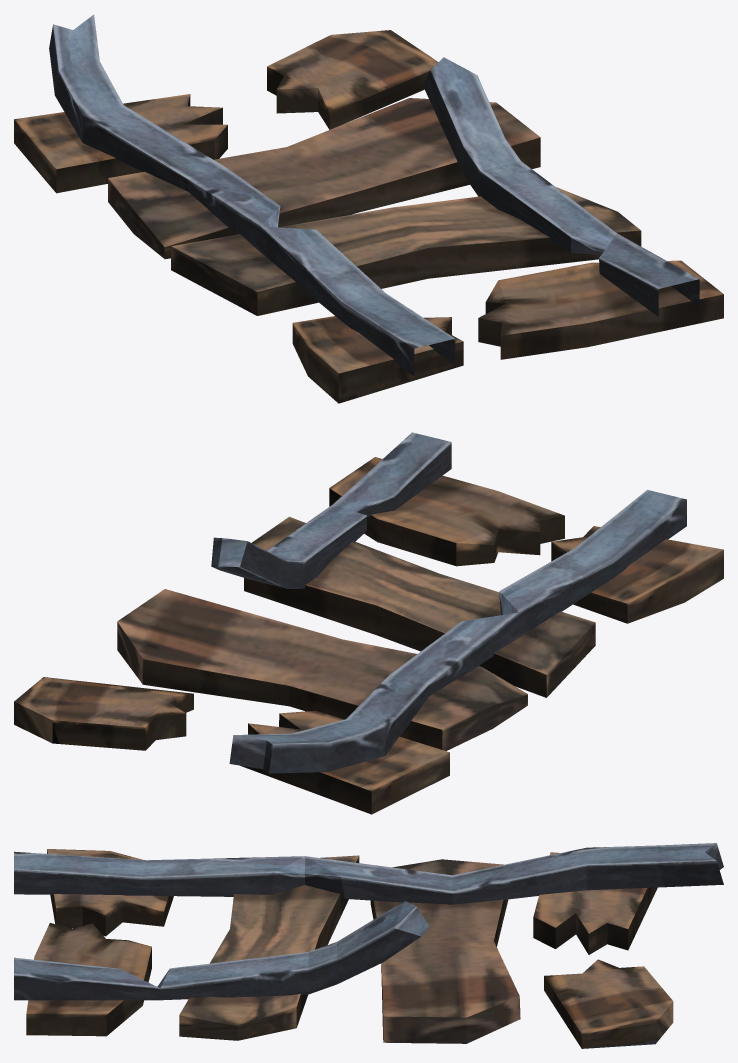
File: bandit_track_end_broken_01.fbx
The picture shows the model from 3 angles, top to bottom: view 1: azimuth 30°, elevation 25°; view 2: azimuth 150°, elevation 25°; view 3: azimuth 270°, elevation 25°; orthographic projection. The views are drawn at different scales.
Visible parts, largest first — view 1: obj0.723; view 2: obj0.723; view 3: obj0.723.
Part boxes in pixels (x1,y1,x2,y2): obj0.723: (14, 14, 723, 403); obj0.723: (14, 432, 723, 814); obj0.723: (14, 843, 723, 1048).
Bounding box in the file's own units: 1.9 × 0.5274 × 3.24.
